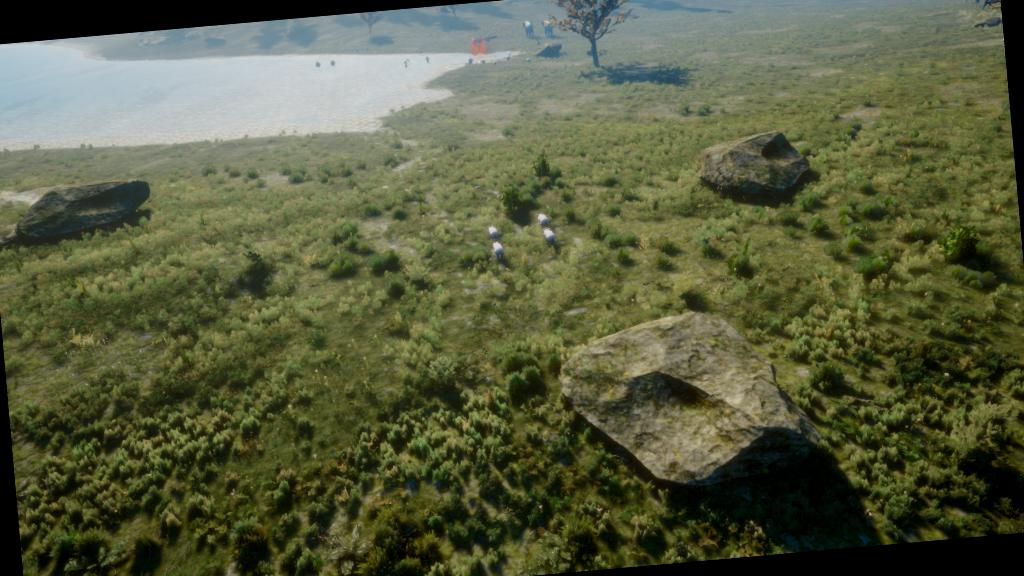Fire: (467, 34, 491, 60)
elephant: (518, 17, 538, 41), (540, 16, 558, 40)
pig: (538, 224, 561, 252), (482, 220, 505, 245), (530, 209, 557, 230), (490, 238, 508, 262)
